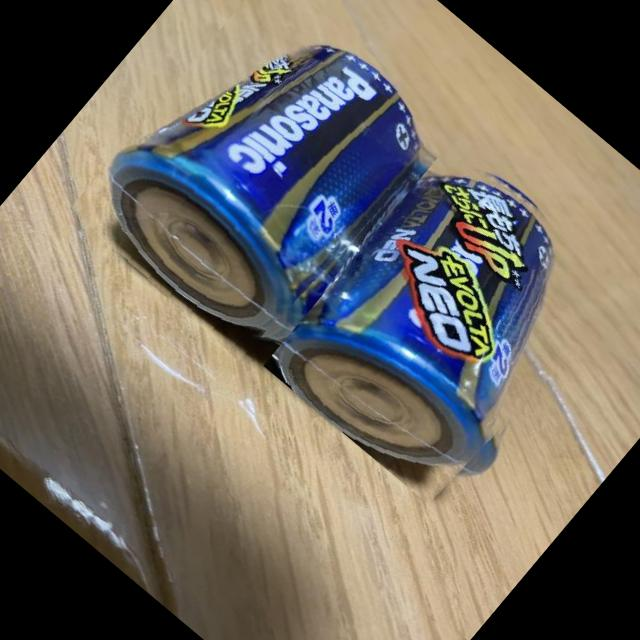Hazard: (62, 0, 456, 371), (262, 130, 638, 516)
